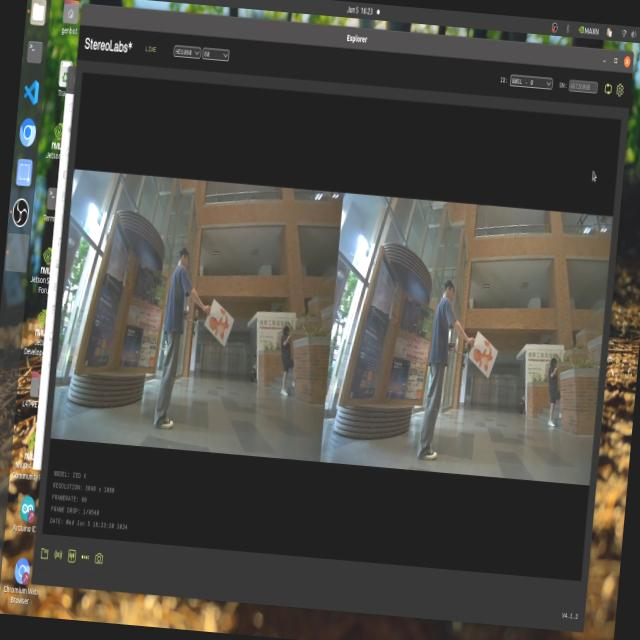red: (208, 292, 238, 354), (464, 342, 493, 382)
